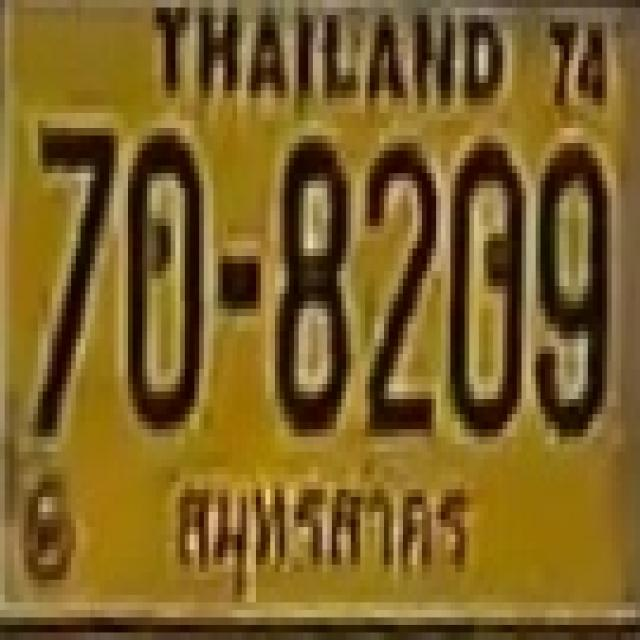0: (123, 128, 199, 422), (446, 136, 522, 429)
2: (362, 139, 433, 433)
7: (33, 121, 114, 429)
8: (270, 136, 346, 429)
9: (534, 136, 604, 429)
SKN: (159, 455, 480, 605)
